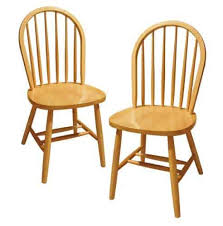tiyarina: (110, 17, 214, 208), (10, 4, 107, 177)
